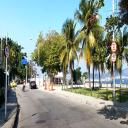speed_limit_40: (4, 44, 10, 58), (110, 53, 116, 63)
